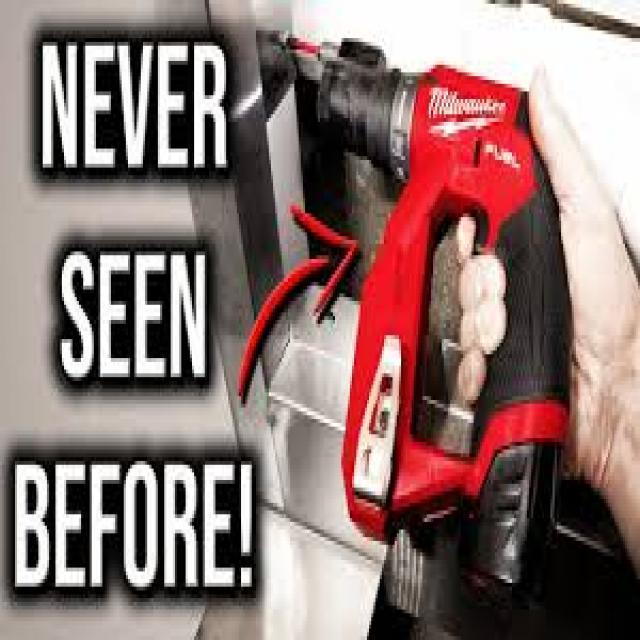drill: (276, 22, 576, 589)
